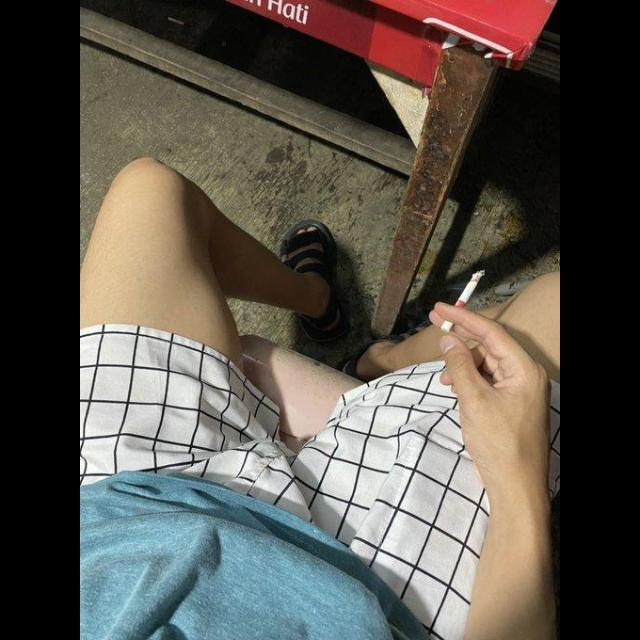rokok: (437, 262, 488, 336)
